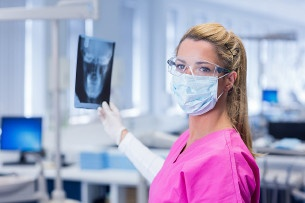Mask: (169, 57, 227, 115)
